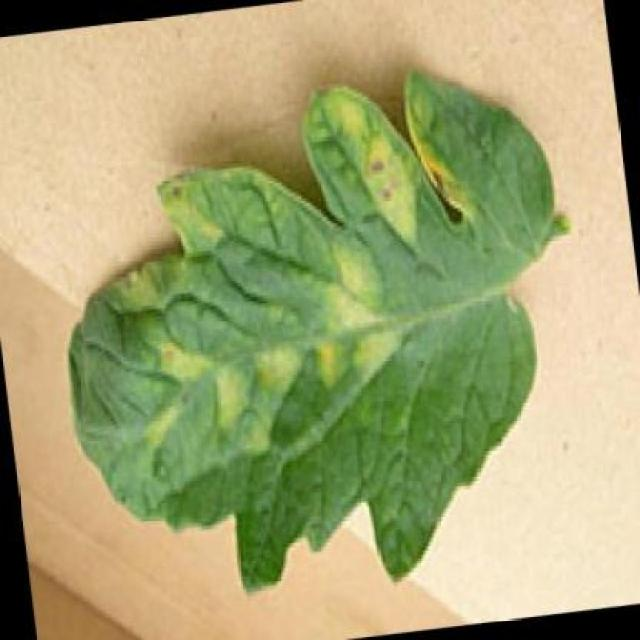Leaf Mold: (76, 72, 570, 503)
